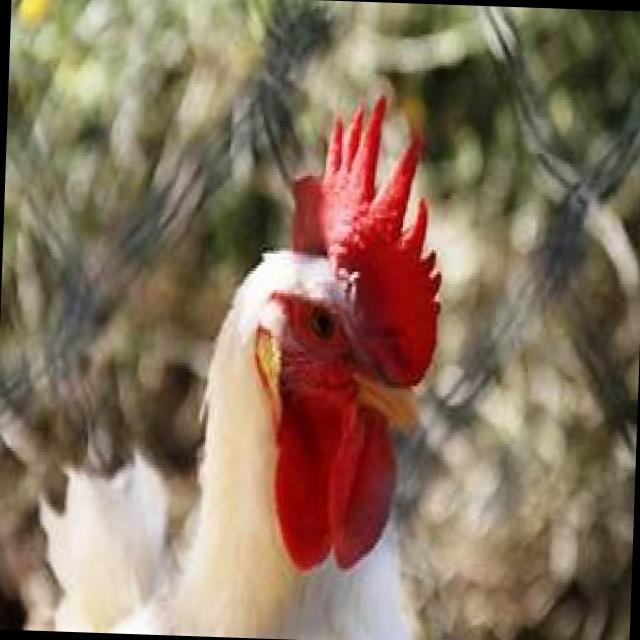animal: (46, 79, 452, 640)
